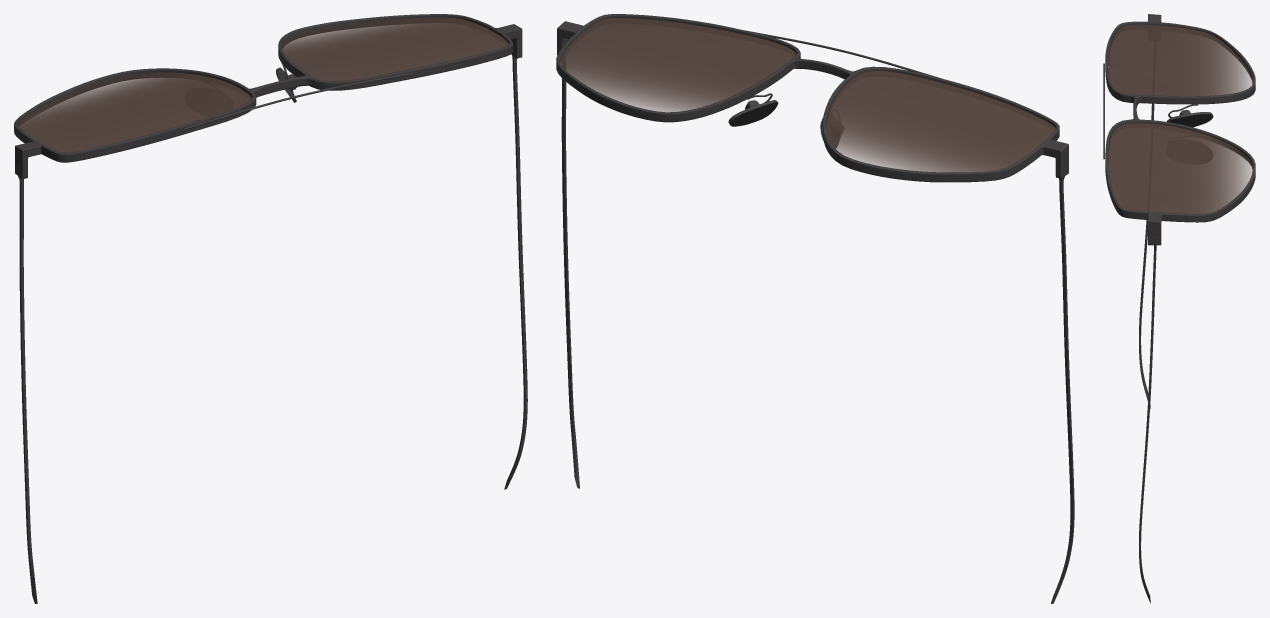
The model's file is bates_andrey.glb.
3 renders of one model, left to right at view 1: azimuth 30°, elevation 25°; view 2: azimuth 150°, elevation 25°; view 3: azimuth 270°, elevation 25°, orthographic. The views are drawn at different scales.
Visible parts, largest first — view 1: frame, temple_left, temple_right; view 2: frame, temple_right, temple_left; view 3: frame, temple_left, temple_right.
Part boxes in pixels (x1,y1,x2,y2): frame: [14, 14, 522, 179]; temple_left: [504, 47, 527, 489]; temple_right: [17, 167, 37, 603]; frame: [556, 14, 1068, 182]; temple_right: [1051, 167, 1074, 603]; temple_left: [561, 69, 579, 488]; frame: [1103, 14, 1255, 245]; temple_left: [1139, 237, 1156, 603]; temple_right: [1139, 103, 1154, 409].
Bounding box in the file's own units: 0.1456 × 0.1311 × 0.0453.
Materials: 2 (1 with a texture image).
